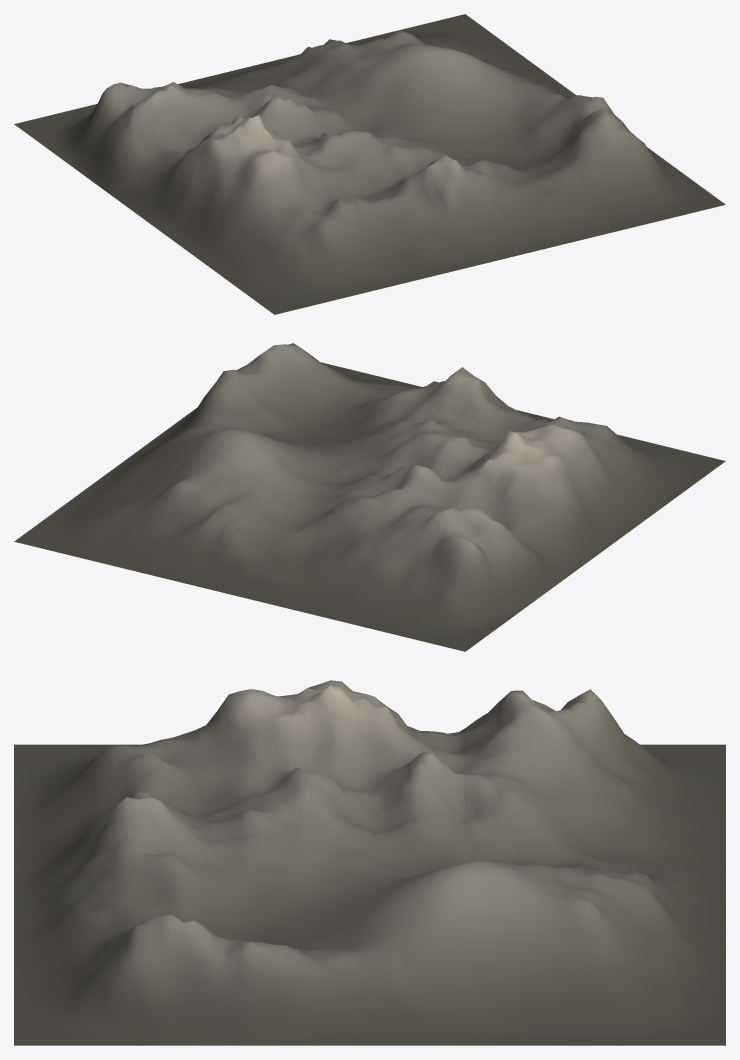
The model's file is Mountain_3B.fbx.
The picture shows the model from 3 angles, top to bottom: view 1: azimuth 30°, elevation 25°; view 2: azimuth 150°, elevation 25°; view 3: azimuth 270°, elevation 25°; orthographic projection. The views are drawn at different scales.
Parts seen in each view (by area): view 1: Mountain_3B; view 2: Mountain_3B; view 3: Mountain_3B.
Boxes of the visible parts, x1,y1,x2,y2 form: Mountain_3B: (14, 14, 725, 314); Mountain_3B: (14, 343, 725, 651); Mountain_3B: (14, 680, 725, 1045).
Bounding box in the file's own units: 20000 × 3839 × 20000.
